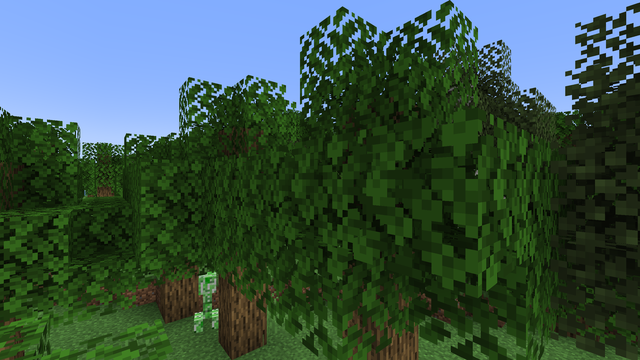creepers: (194, 272, 216, 333)
